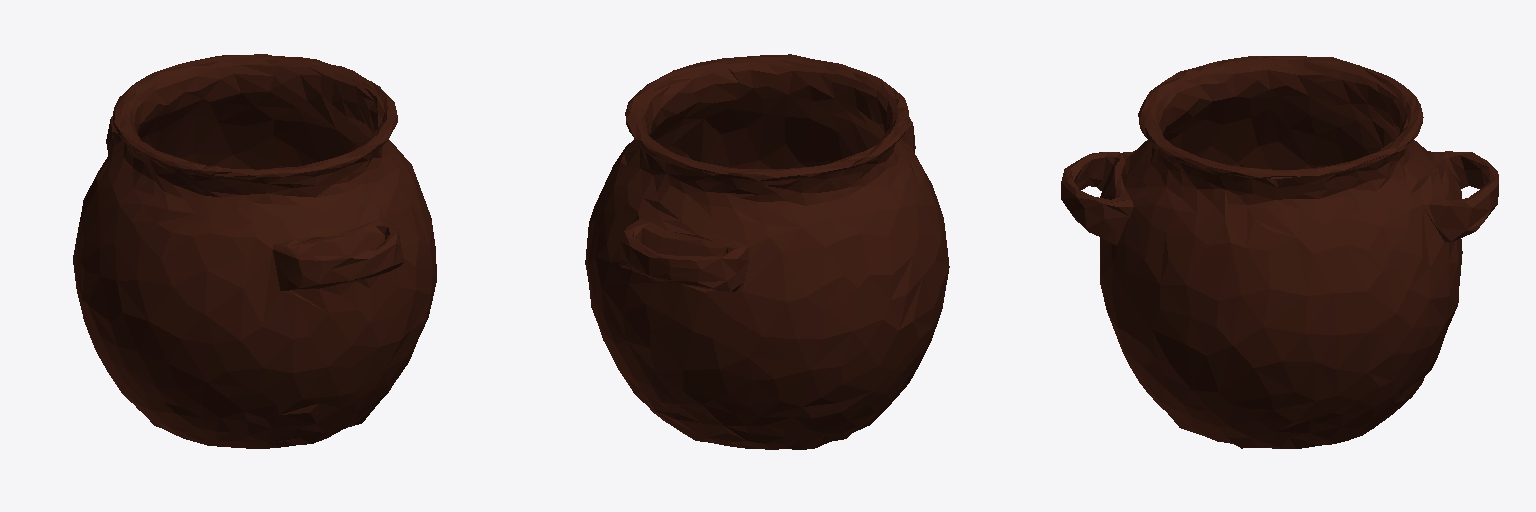
File: kuvshin.obj
3 renders of one model, left to right at view 1: azimuth 30°, elevation 25°; view 2: azimuth 150°, elevation 25°; view 3: azimuth 270°, elevation 25°, orthographic.
Visible parts, largest first — view 1: Cylinder; view 2: Cylinder; view 3: Cylinder.
Boxes of the visible parts, box(x1,y1,x2,y2) form: Cylinder: box(73, 54, 436, 448); Cylinder: box(585, 54, 949, 449); Cylinder: box(1061, 56, 1498, 448).
Bounding box in the file's own units: 2.84 × 2.5 × 3.43.